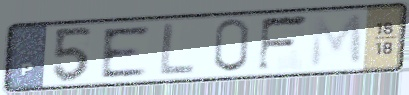0: (211, 17, 252, 76)
5: (50, 24, 96, 85)
E: (99, 23, 152, 81)
F: (255, 12, 313, 75)
L: (157, 21, 198, 77)
M: (308, 11, 365, 70)
